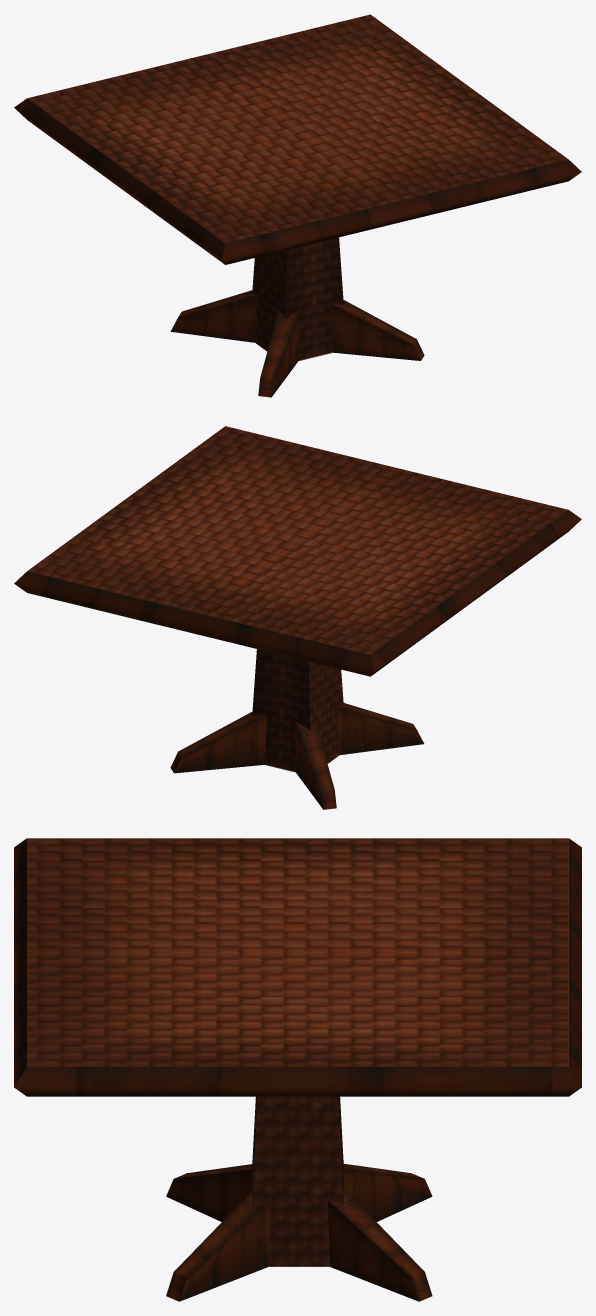
Rendered from Rattan_Table_01.FBX.
3 renders of one model, top to bottom at view 1: azimuth 30°, elevation 25°; view 2: azimuth 150°, elevation 25°; view 3: azimuth 270°, elevation 25°, orthographic. The views are drawn at different scales.
Visible parts, largest first — view 1: Rattan_Table_01; view 2: Rattan_Table_01; view 3: Rattan_Table_01.
Boxes of the visible parts, left/top/right/bottom form: Rattan_Table_01: left=14, top=14, right=581, bottom=397; Rattan_Table_01: left=14, top=426, right=581, bottom=809; Rattan_Table_01: left=14, top=838, right=581, bottom=1301.
Bounding box in the file's own units: 1.56 × 1.56 × 0.8877.
